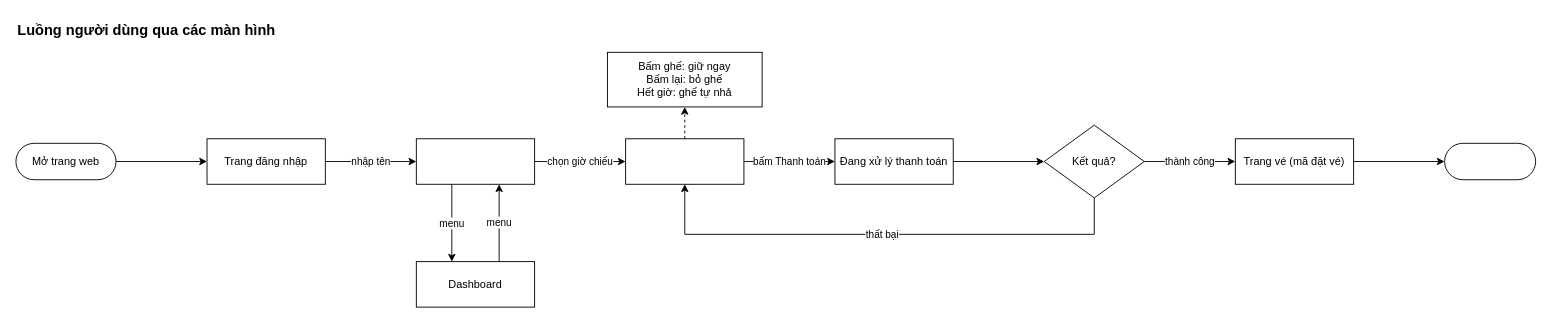
This 1552x323 diagram has some shape labels left out. Here are the shapes that lost their labels. From the top down, the centre of each, then its label:
(x=475, y=161): Danh sách phim
(x=684, y=161): Trang chọn ghế
(x=1490, y=161): Kết thúc
